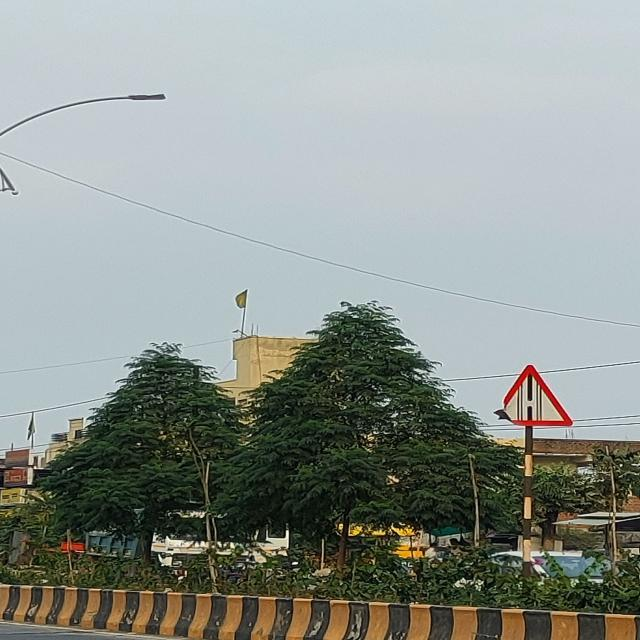gap in median: (495, 364, 576, 428)
